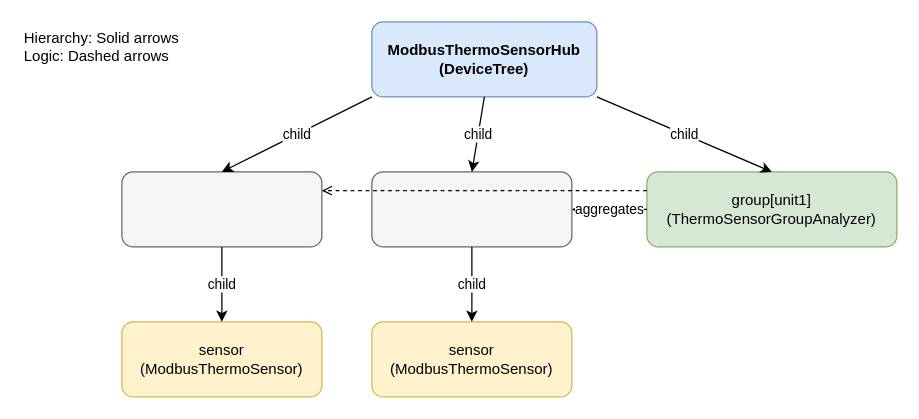
The diagram is 919 pixels wide and 419 high, and some of its shapes have lost their labels. Each missing label, with the box of its shape:
sensor1 (ThermoSensorAnalyzer): (121, 171, 322, 247)
sensor2 (ThermoSensorAnalyzer): (371, 171, 572, 247)
